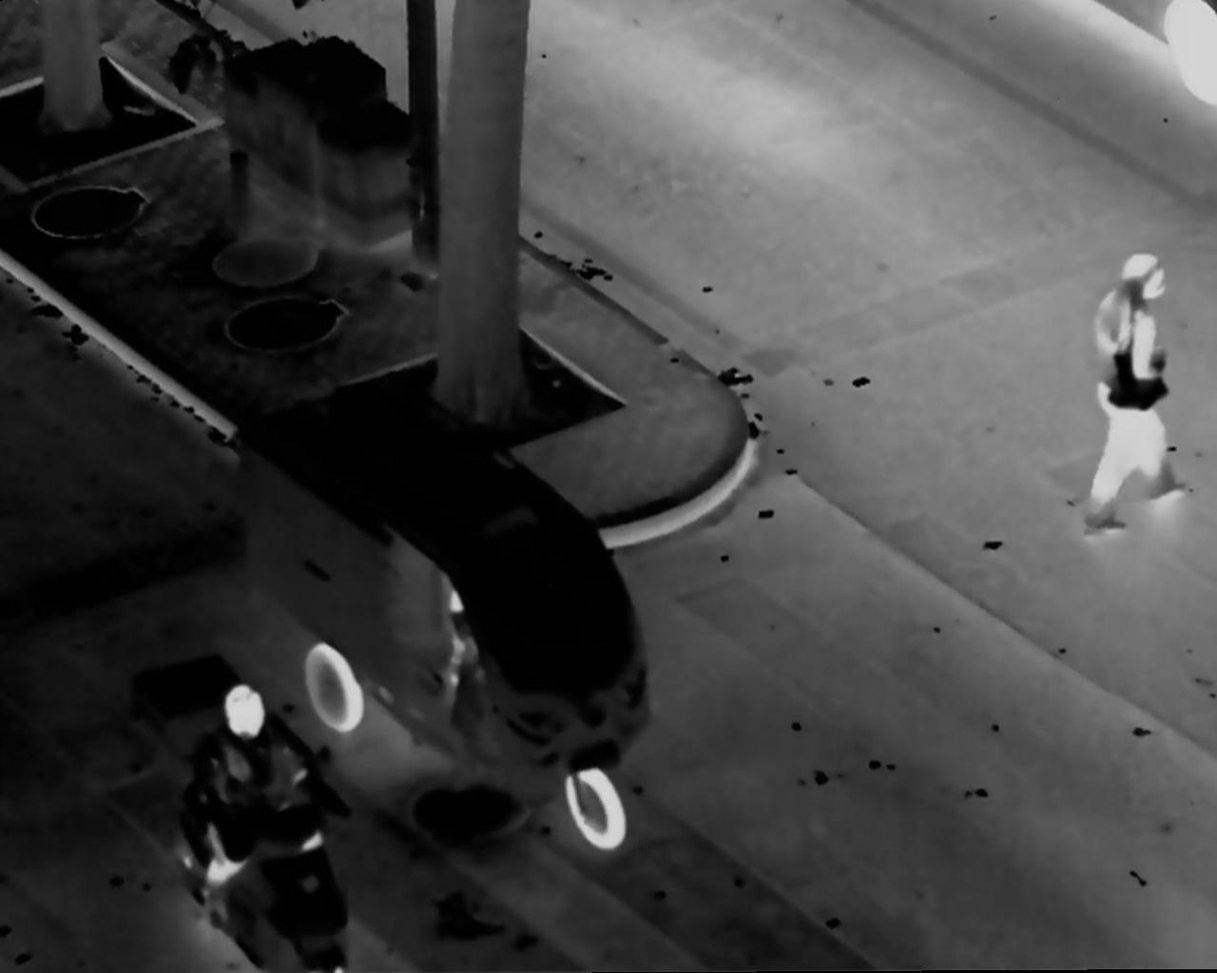person: (1080, 245, 1199, 550), (183, 682, 313, 957)
